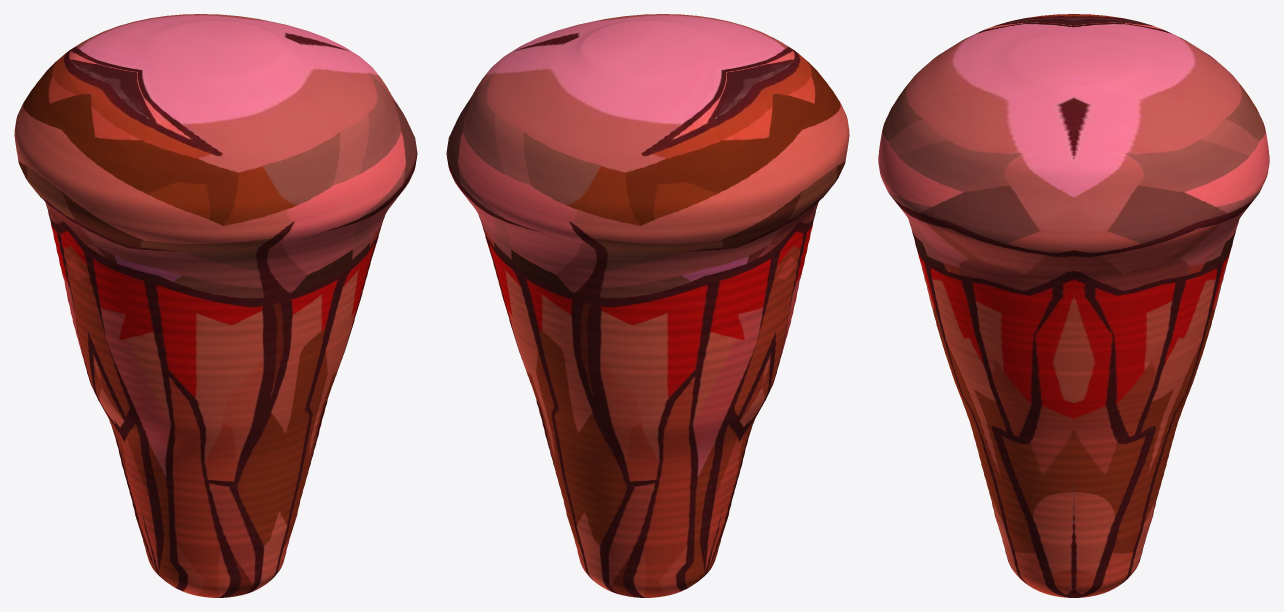
File: basalt_pillar.glb
The picture shows the model from 3 angles, left to right: view 1: azimuth 30°, elevation 25°; view 2: azimuth 150°, elevation 25°; view 3: azimuth 270°, elevation 25°; orthographic projection. The views are drawn at different scales.
Visible parts, largest first — view 1: basalt_pillar; view 2: basalt_pillar; view 3: basalt_pillar.
Boxes of the visible parts, x1=… form: basalt_pillar: x1=14, y1=14, x2=417, y2=597; basalt_pillar: x1=446, y1=14, x2=849, y2=597; basalt_pillar: x1=878, y1=14, x2=1269, y2=597.
Size of the model in its own units: 0.9923 by 1.47 by 0.9837.
1 material, 1 textured.
